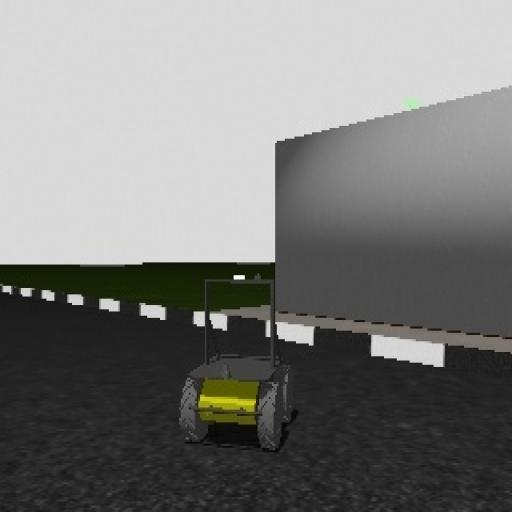huskya200: (167, 267, 311, 477)
